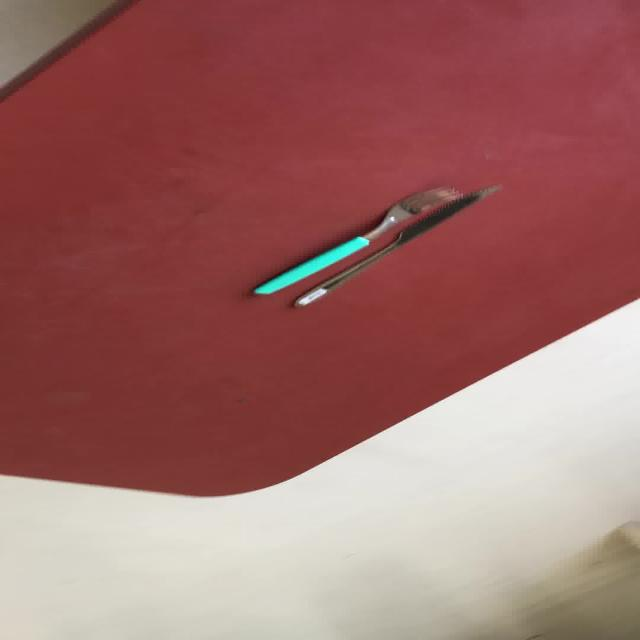fork: (290, 182, 502, 308), (249, 184, 462, 295)
knife fork: (250, 182, 501, 308), (249, 184, 462, 295)
